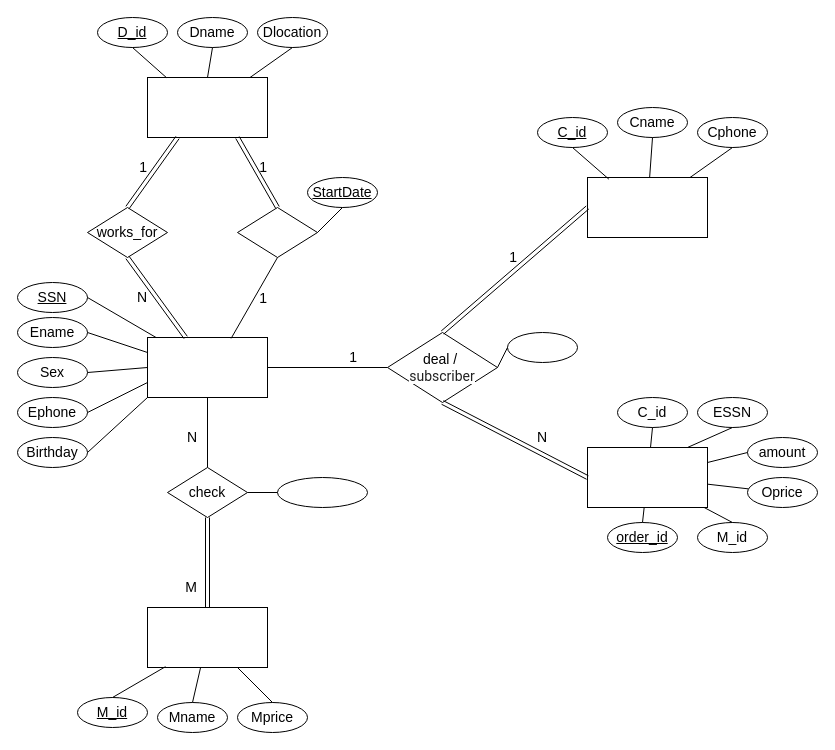
Some shapes in this 835 by 750 pixel diagram are drawn without their labels. Each missing label, with the centre of its shape:
Check_time: (322,492)
Customer: (647,207)
Deal_time: (542,347)
Department: (207,107)
Employee: (207,367)
manage: (277,232)
Meals: (207,637)
Order_list: (647,477)
